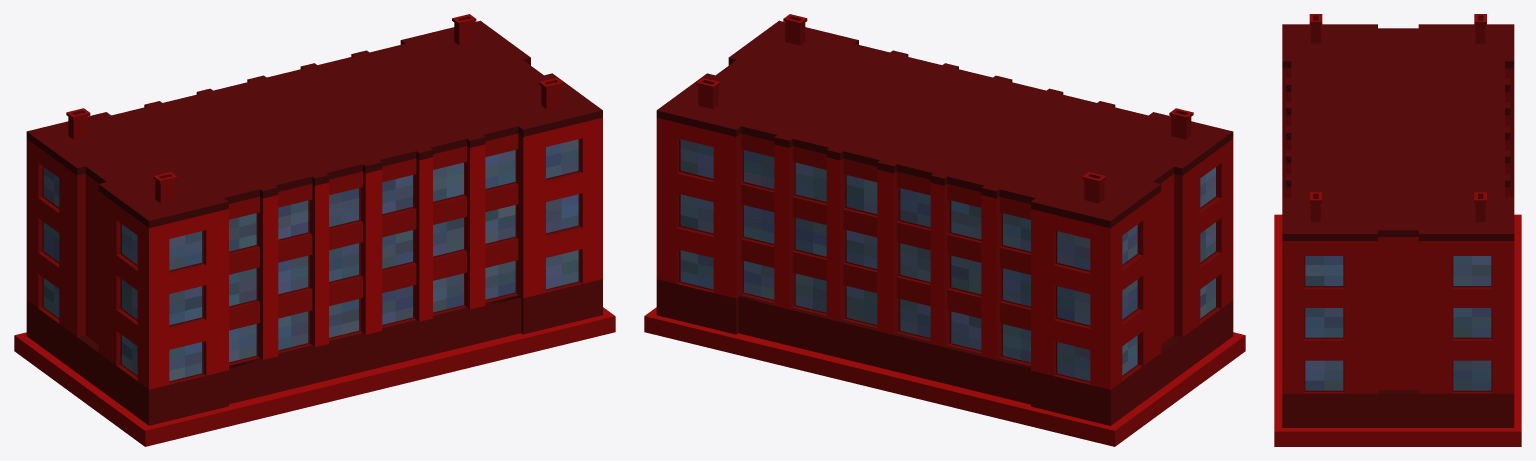
Rendered from buildings-industrial-factory_v4.fbx.
The picture shows the model from 3 angles, left to right: view 1: azimuth 30°, elevation 25°; view 2: azimuth 150°, elevation 25°; view 3: azimuth 270°, elevation 25°; orthographic projection. The views are drawn at different scales.
Visible parts, largest first — view 1: Factory_v4_base, Factory_v4_windowRefl; view 2: Factory_v4_base, Factory_v4_windowRefl; view 3: Factory_v4_base, Factory_v4_windowRefl.
Part boxes in pixels (left/top/right/bottom): Factory_v4_base: left=14, top=14, right=615, bottom=446; Factory_v4_windowRefl: left=44, top=139, right=578, bottom=380; Factory_v4_base: left=644, top=14, right=1245, bottom=446; Factory_v4_windowRefl: left=680, top=139, right=1215, bottom=381; Factory_v4_base: left=1274, top=14, right=1521, bottom=446; Factory_v4_windowRefl: left=1305, top=256, right=1491, bottom=390.
Size of the model in its own units: 48.35 by 23.98 by 23.28.
